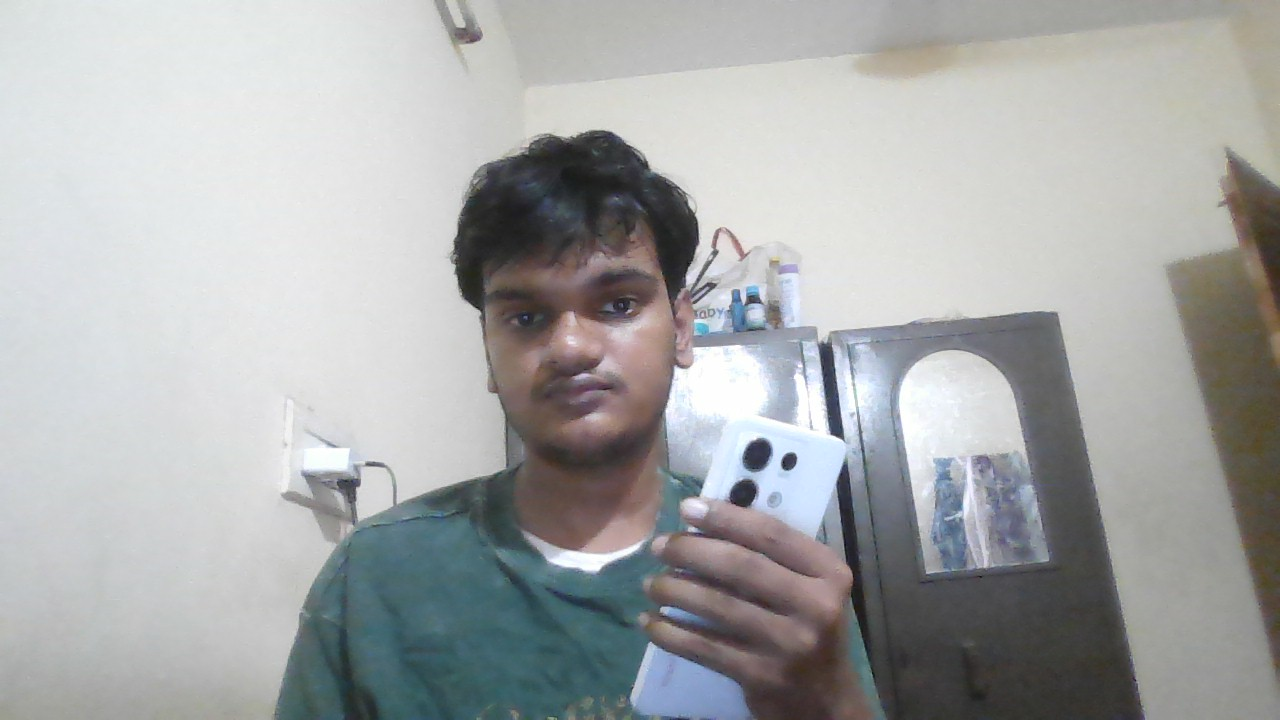phone: (700, 412, 845, 538)
